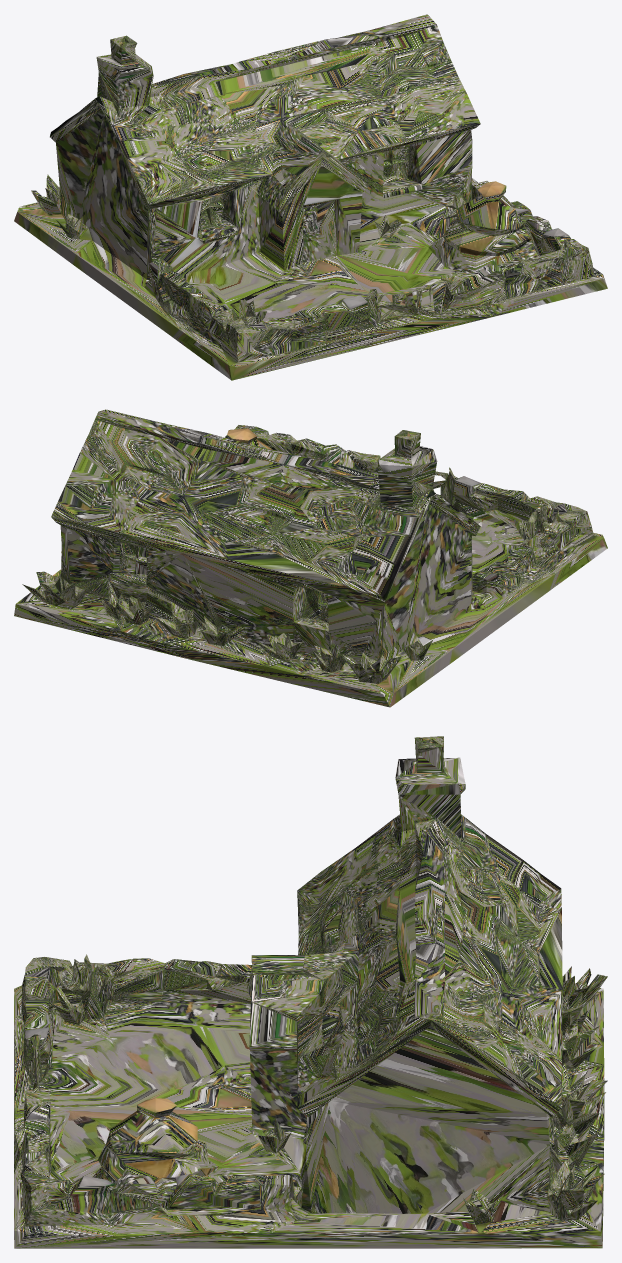
File: town_cottage_old_small_2.glb
The picture shows the model from 3 angles, top to bottom: view 1: azimuth 30°, elevation 25°; view 2: azimuth 150°, elevation 25°; view 3: azimuth 270°, elevation 25°; orthographic projection. The views are drawn at different scales.
Parts seen in each view (by area): view 1: normalize; view 2: normalize; view 3: normalize.
Part boxes in pixels (x1,y1,x2,y2): normalize: [14, 14, 607, 380]; normalize: [14, 409, 607, 707]; normalize: [14, 736, 607, 1248].
Bounding box in the file's own units: 0.9873 × 0.5402 × 1.
Materials: 1 (1 with a texture image).
